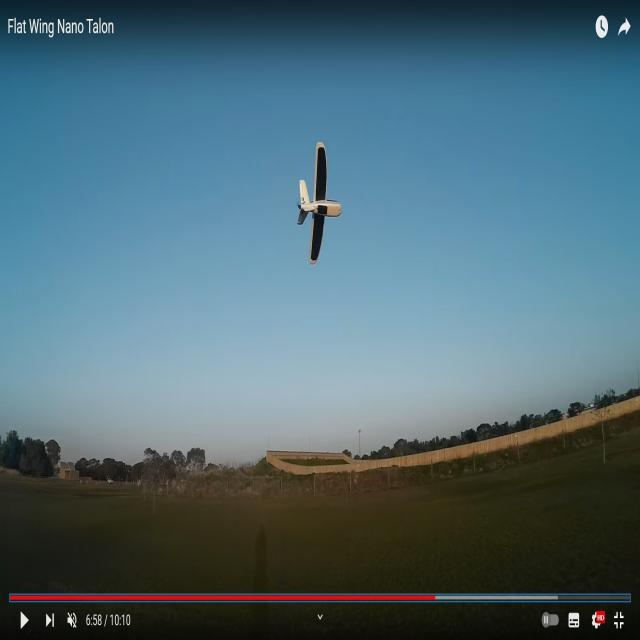iha: (300, 166, 340, 227)
